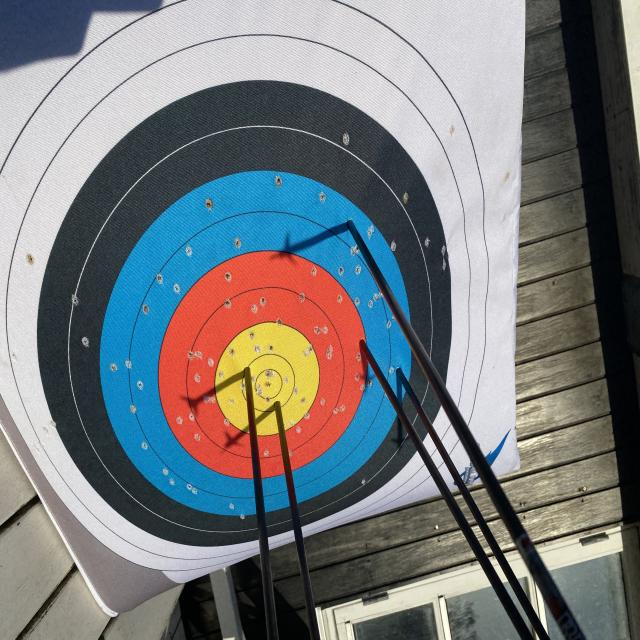Arrow_Blue: (341, 206, 370, 254), (389, 346, 409, 385)
Arrow_Red: (352, 328, 377, 357)
Arrow_Yellow: (233, 354, 257, 394), (269, 391, 287, 421)
